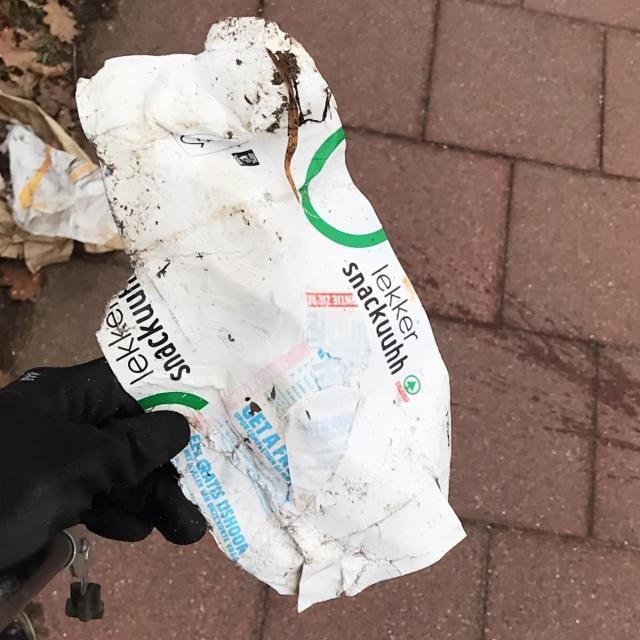Paper: (1, 12, 470, 614)
